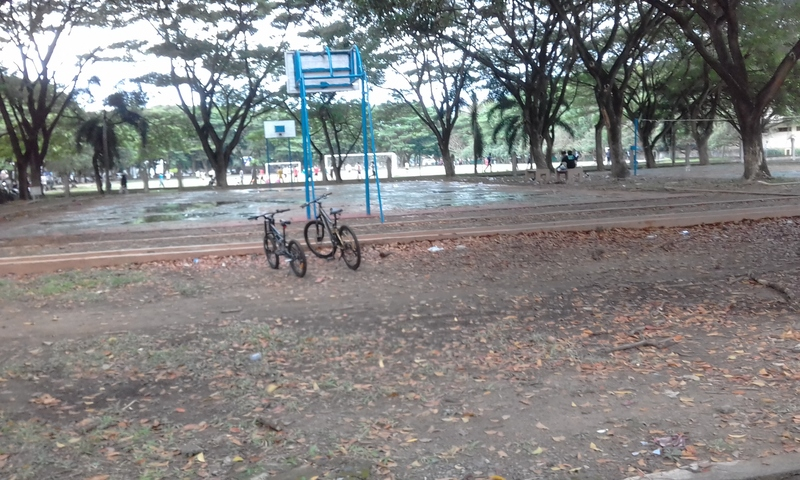bike: (296, 191, 363, 273), (245, 206, 311, 280)
